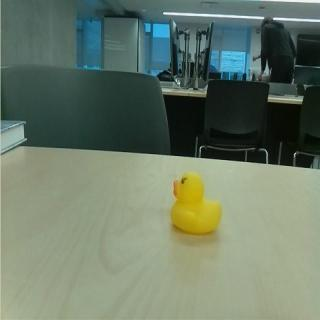duck_regular: (169, 172, 225, 239)
